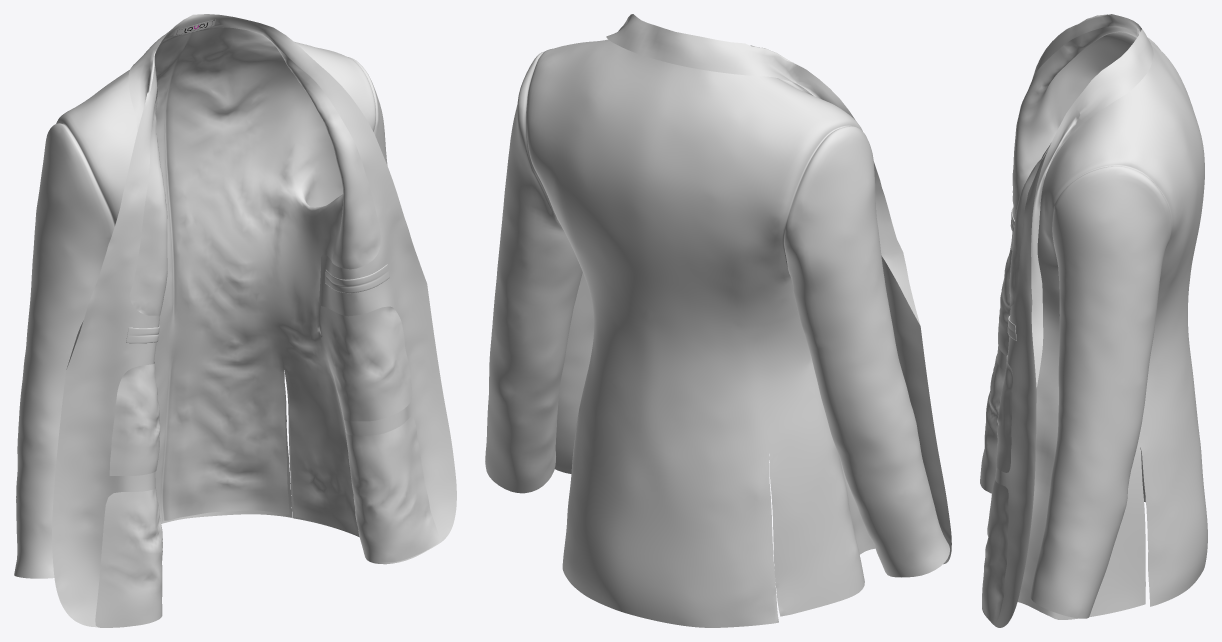
File: open_lining_side_vent.glb
3 views of the same model, side by side, from view 1: azimuth 30°, elevation 25°; view 2: azimuth 150°, elevation 25°; view 3: azimuth 270°, elevation 25° (orthographic). The views are drawn at different scales.
Visible parts, largest first — view 1: suit_lining_02, suit_02; view 2: suit_02; view 3: suit_02, suit_lining_02.
Part boxes in pixels (x1=…): suit_lining_02: x1=95, y1=27, x2=439, y2=627; suit_02: x1=14, y1=14, x2=456, y2=627; suit_02: x1=485, y1=14, x2=951, y2=627; suit_02: x1=982, y1=14, x2=1207, y2=627; suit_lining_02: x1=980, y1=26, x2=1145, y2=623.
Bounding box in the file's own units: 65.06 × 76.72 × 29.92.
Materials: 3 (1 with a texture image).
